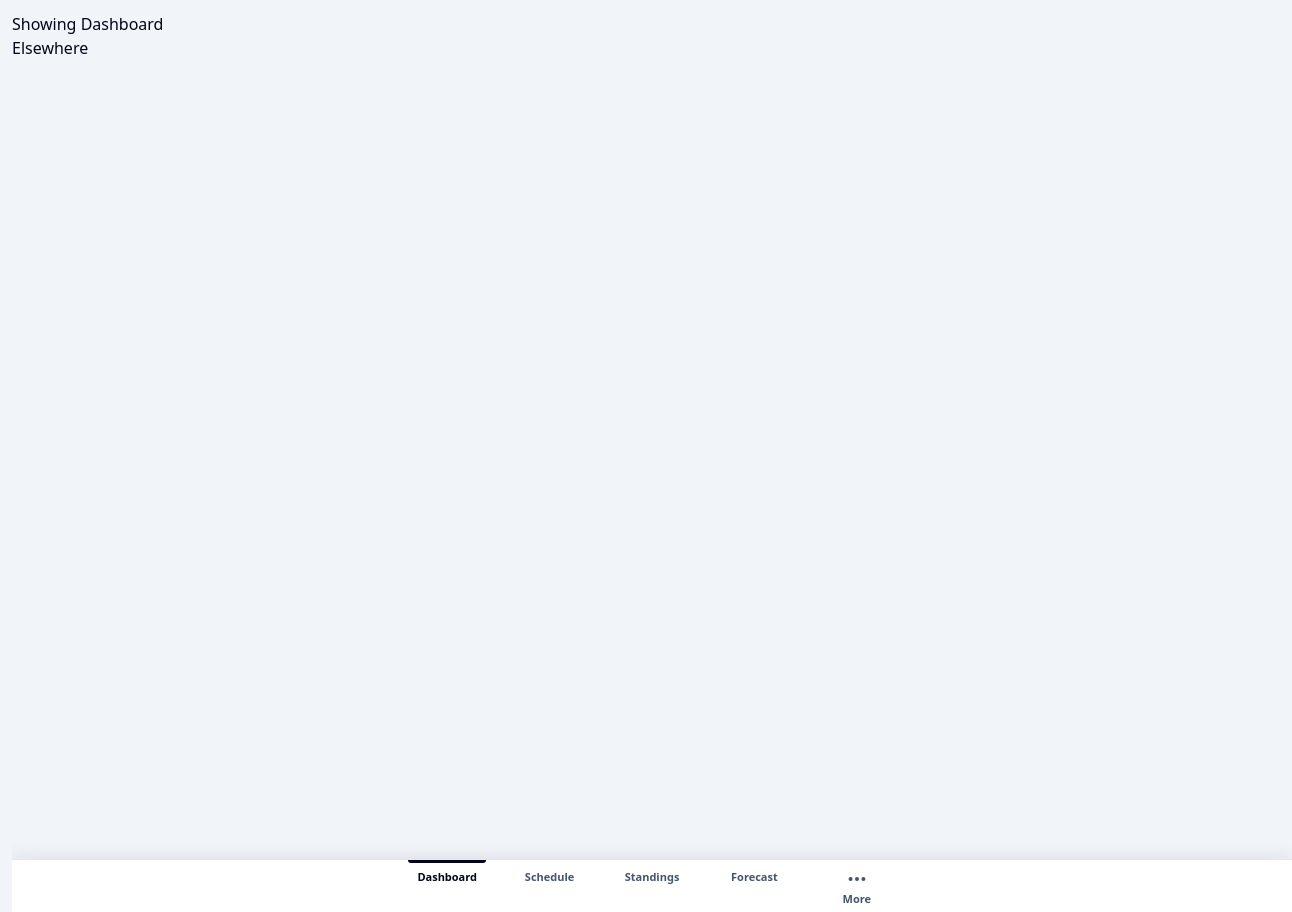
the tab row on a phone › keeps the main tabs in the row and the rest under More
Click the button "More" at (857,886), box [806, 860, 908, 911]
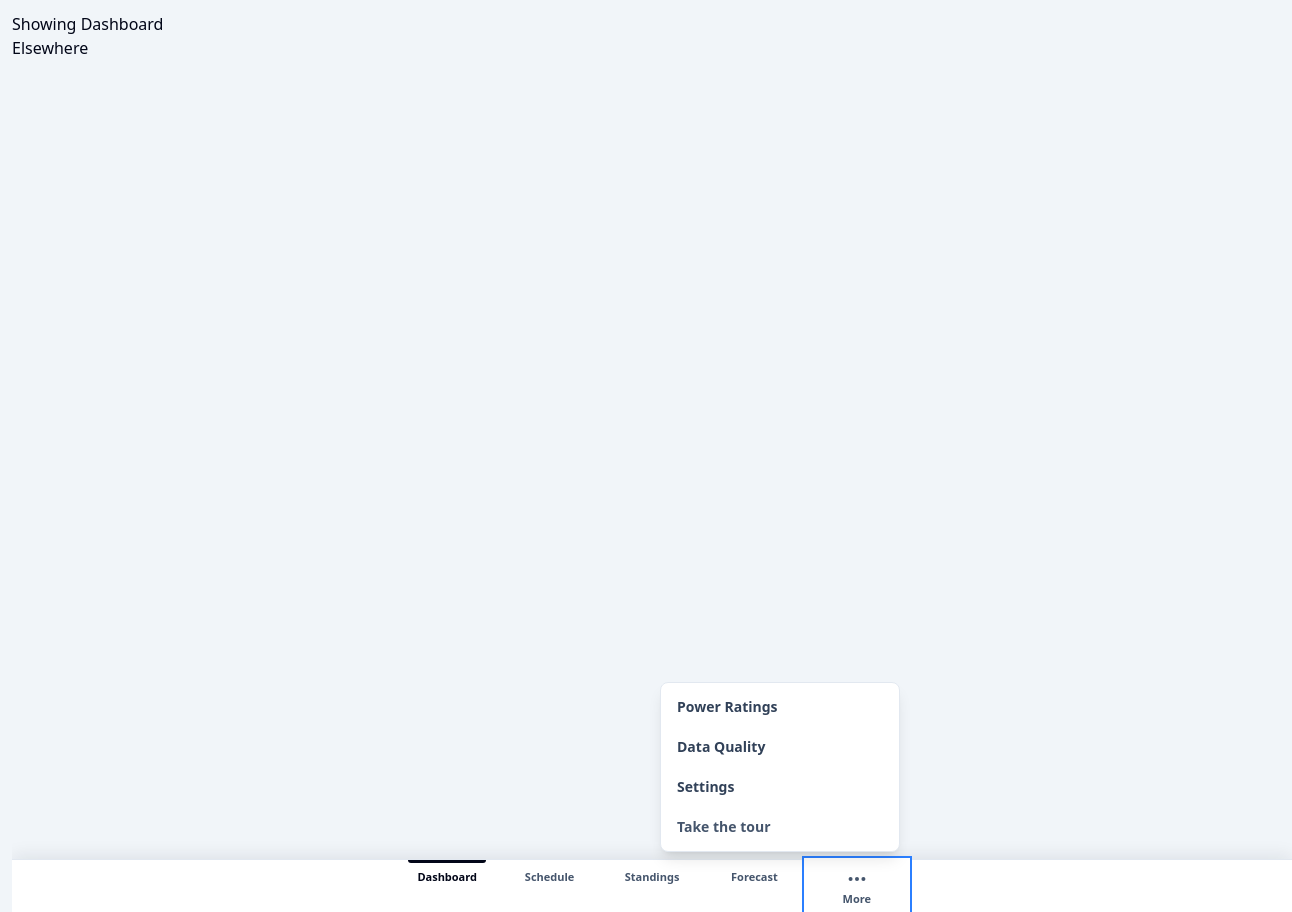
Expected: the buttons read "Power Ratings", "Data Quality", "Settings", "Take the tour", in this order
Click the button "Settings" at (780,787), box [665, 767, 895, 807]
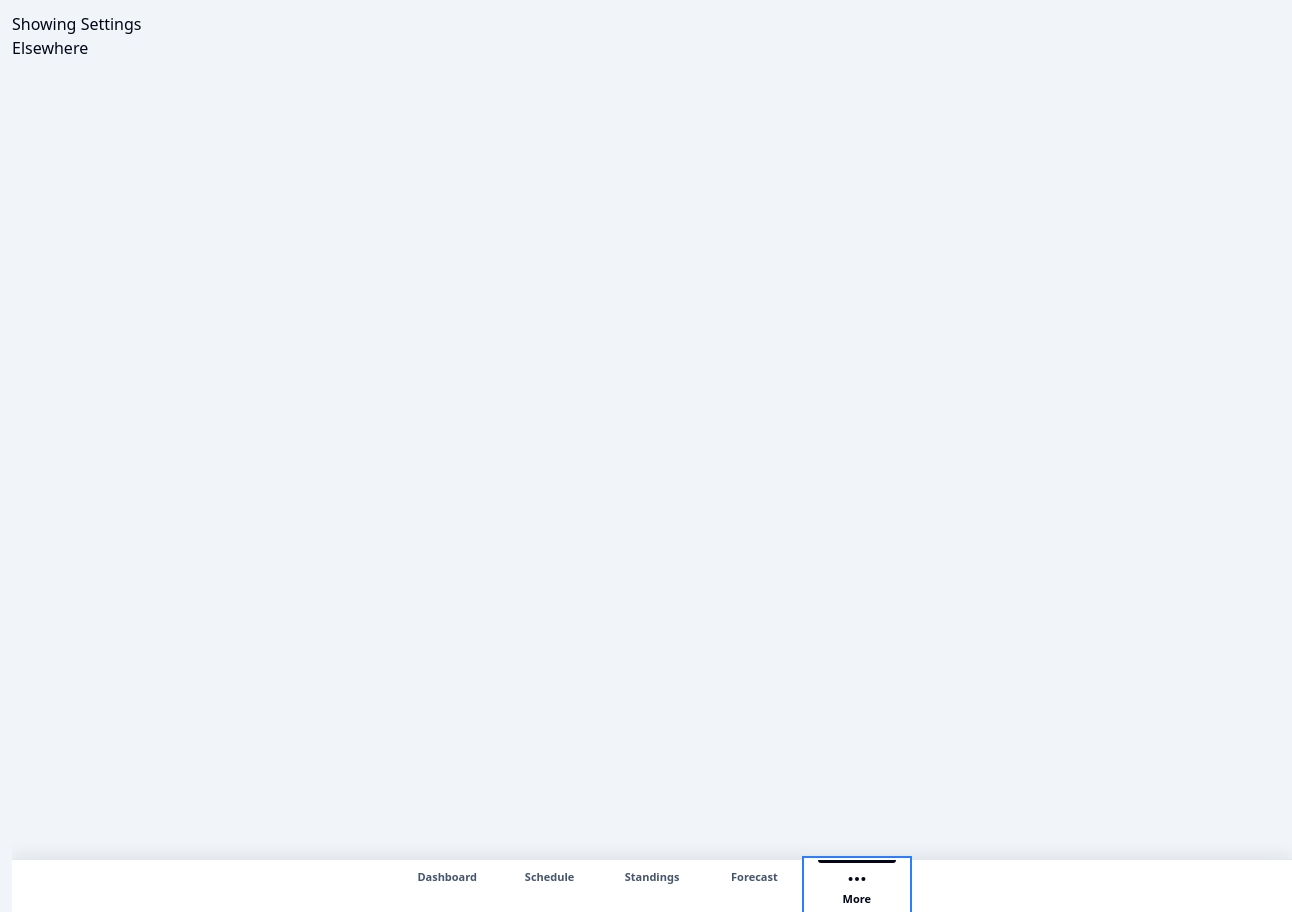
Expected: the text "Showing Settings" is shown, [12, 13, 142, 35]
Expected: the button with aria-label "More: Settings" is shown, [806, 860, 908, 911]
